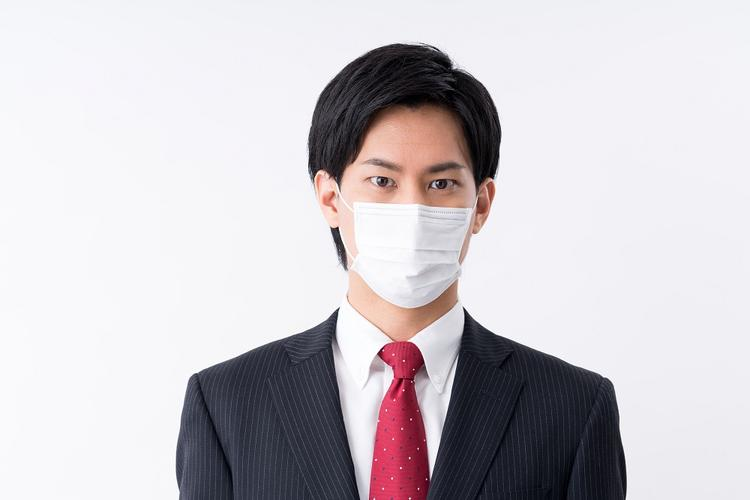mask: (338, 105, 488, 307)
